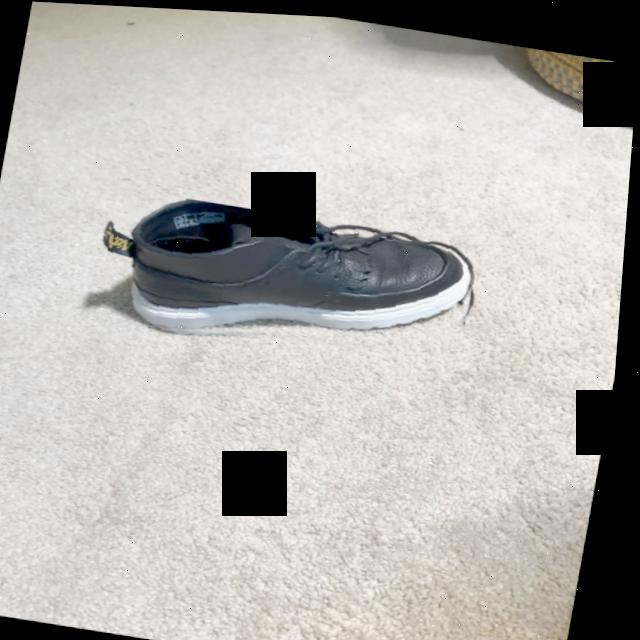shoe: (112, 197, 480, 331)
